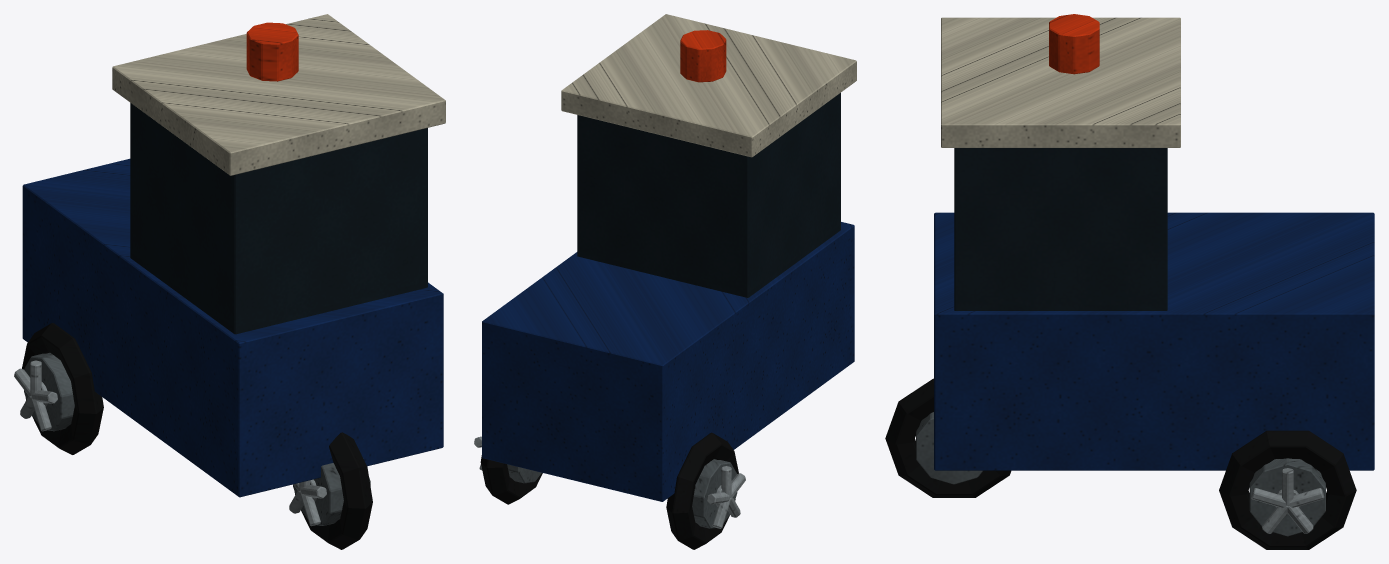
Rendered from PROP-A2548A127159_lod1.glb.
3 views of the same model, side by side, from view 1: azimuth 30°, elevation 25°; view 2: azimuth 150°, elevation 25°; view 3: azimuth 270°, elevation 25° (orthographic). The views are drawn at different scales.
Visible parts, largest first — view 1: trike_body.001, trike_cabin.001, trike_roof.001, tire.001, rim.001, amber_beacon.001, rim_spokes.001; view 2: trike_body.001, trike_cabin.001, trike_roof.001, tire.001, amber_beacon.001, rim.001, rim_spokes.001; view 3: trike_body.001, trike_cabin.001, trike_roof.001, tire.001, rim.001, amber_beacon.001, rim_spokes.001.
Boxes of the visible parts, <box> form: trike_body.001: <box>22,158,443,497</box>; trike_cabin.001: <box>130,103,427,334</box>; trike_roof.001: <box>112,14,445,175</box>; tire.001: <box>22,323,372,549</box>; rim.001: <box>24,352,370,525</box>; amber_beacon.001: <box>246,22,298,81</box>; rim_spokes.001: <box>14,360,326,526</box>; trike_body.001: <box>482,222,854,501</box>; trike_cabin.001: <box>577,93,840,297</box>; trike_roof.001: <box>561,14,856,157</box>; tire.001: <box>480,432,738,549</box>; amber_beacon.001: <box>680,30,726,82</box>; rim.001: <box>507,459,737,528</box>; rim_spokes.001: <box>474,436,745,528</box>; trike_body.001: <box>934,212,1374,470</box>; trike_cabin.001: <box>954,148,1167,310</box>; trike_roof.001: <box>941,17,1180,147</box>; tire.001: <box>885,378,1356,549</box>; rim.001: <box>916,412,1325,536</box>; amber_beacon.001: <box>1049,14,1099,74</box>; rim_spokes.001: <box>1251,468,1324,533</box>.
Size of the model in its own units: 1.2 by 1.96 by 1.83.
7 materials, 7 textured.
